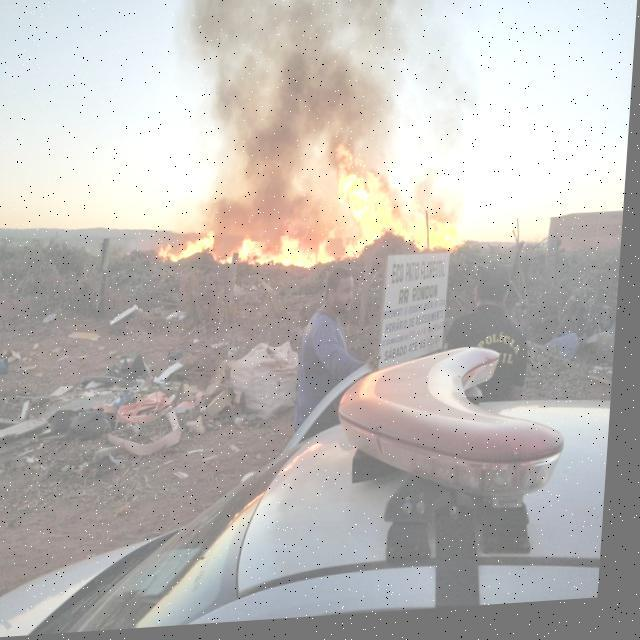Fire: (332, 152, 476, 270), (158, 230, 338, 282)
